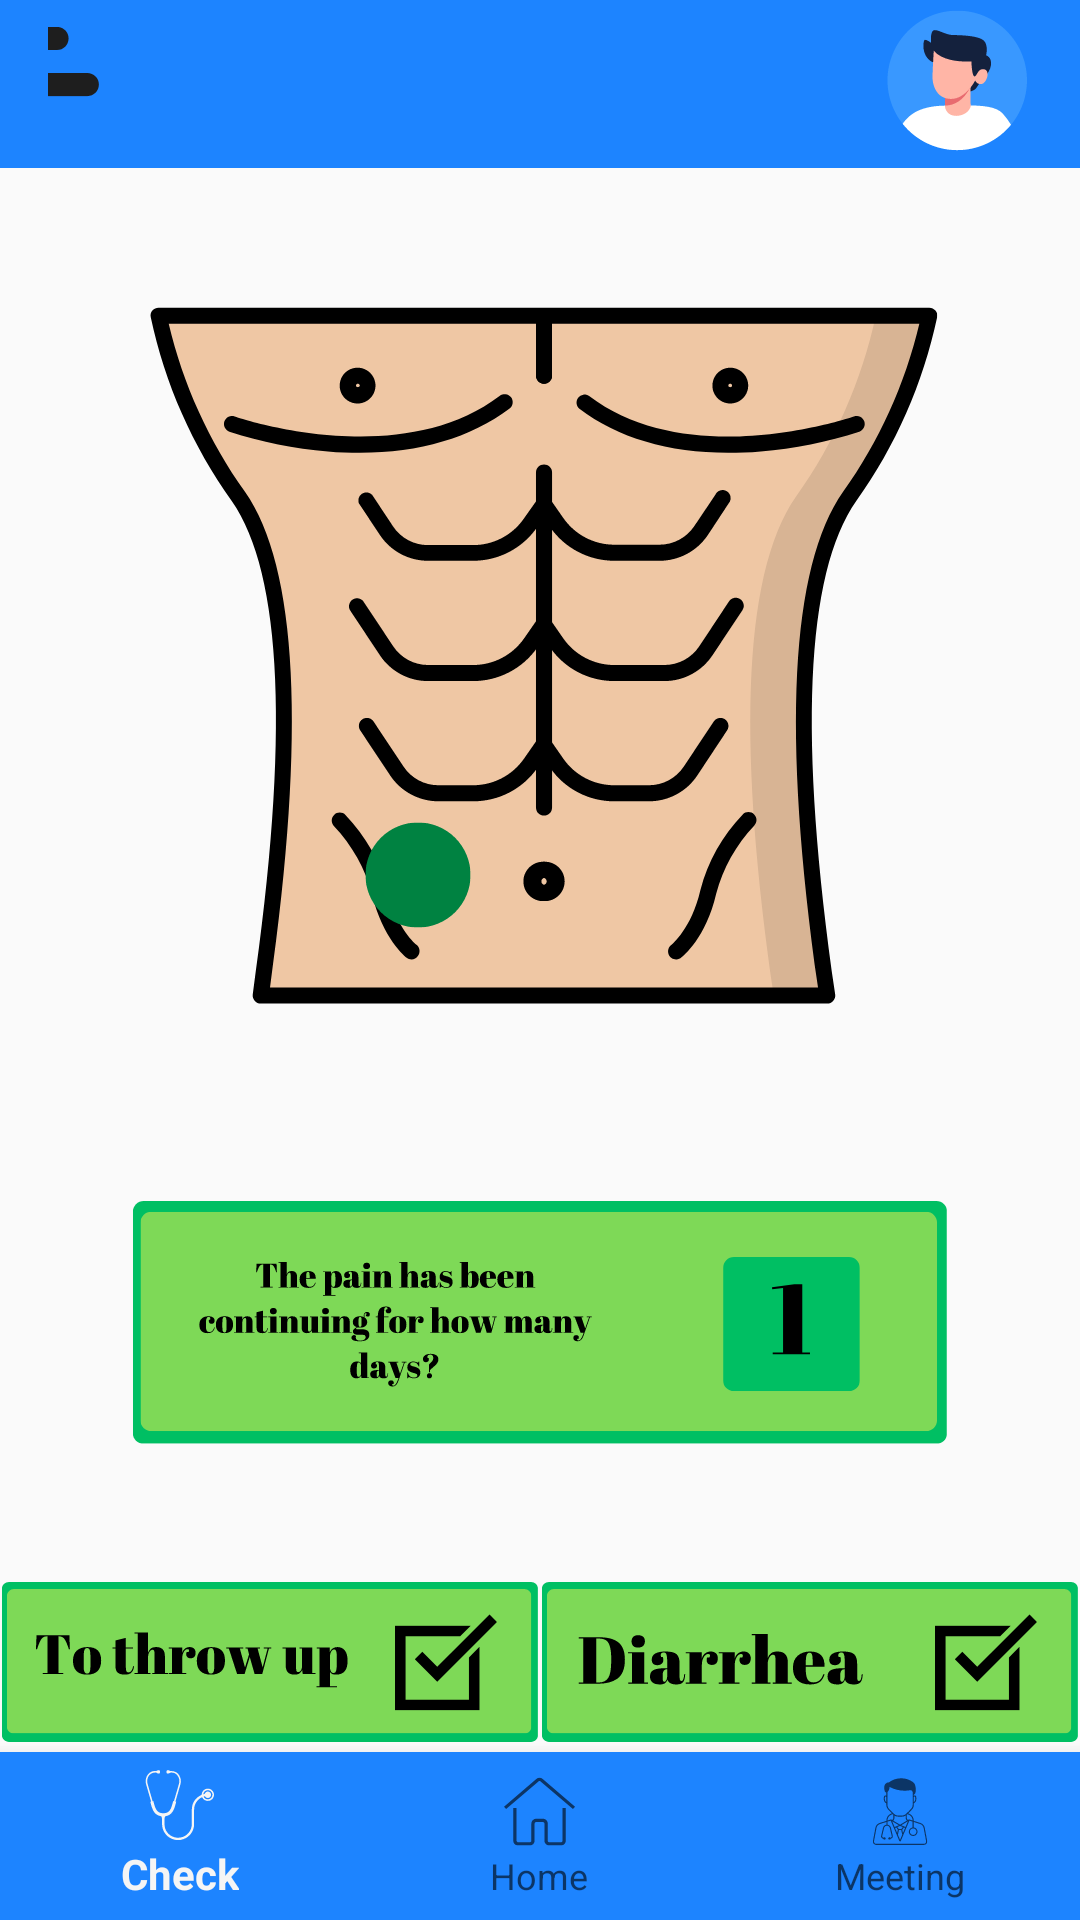

Point at icon controls on the screen. Image size 1080 x 1920, points as (x=x, y=y).
profile: (x=957, y=81)
